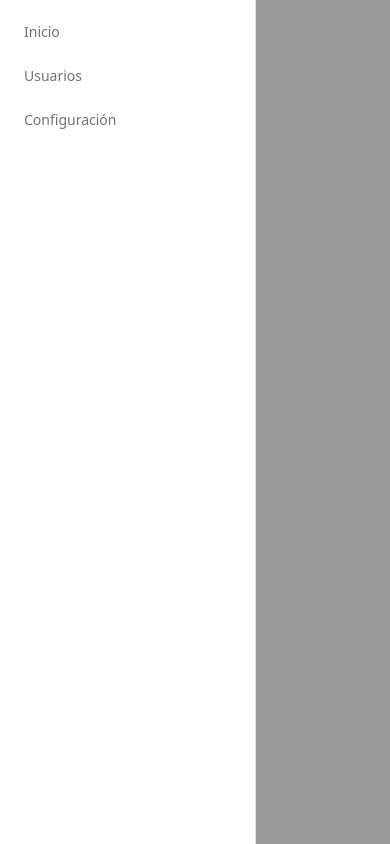
Scenario: Sidebar › permite cerrar el menú móvil
Click the button named "Cerrar menú".
click(367, 422)  # box [0,0,389,843]
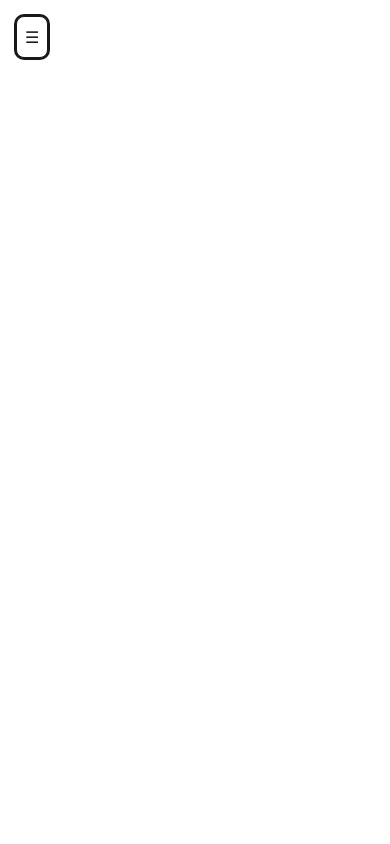
Result: the button named "Abrir menú" is collapsed at [16,16,48,58]
